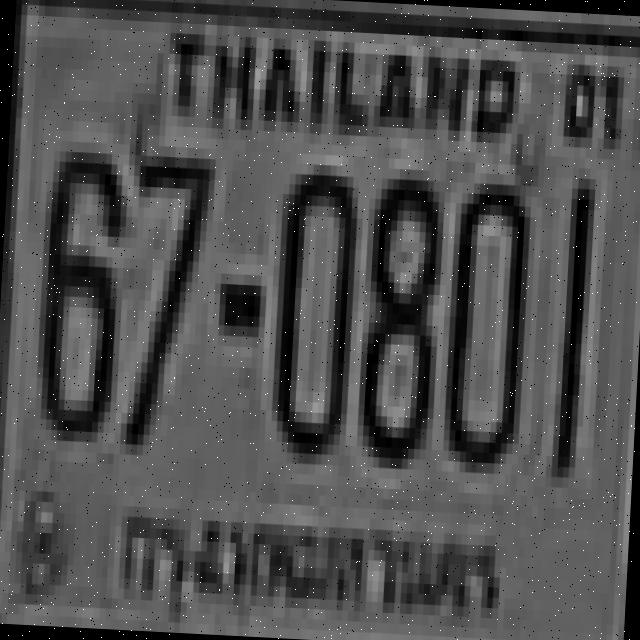0: (267, 162, 357, 456), (440, 172, 530, 464)
1: (552, 172, 590, 472), (549, 178, 587, 468)
6: (29, 140, 124, 433)
7: (120, 145, 211, 448)
8: (356, 168, 441, 460)
Bangkok: (104, 481, 510, 640)
